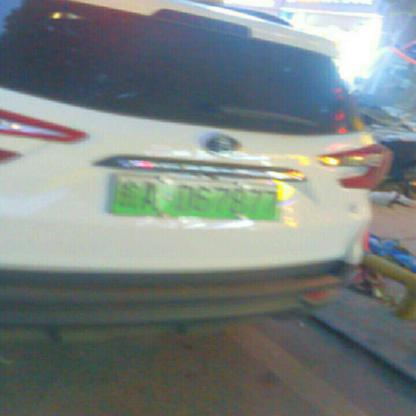lp: (112, 174, 278, 218)
